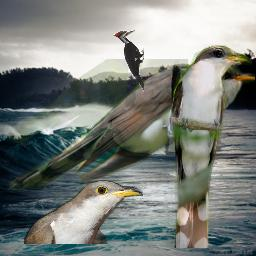Cuckoo: (5, 59, 255, 190), (170, 44, 252, 248), (24, 180, 143, 244)
Woodpecker: (112, 30, 144, 92)
